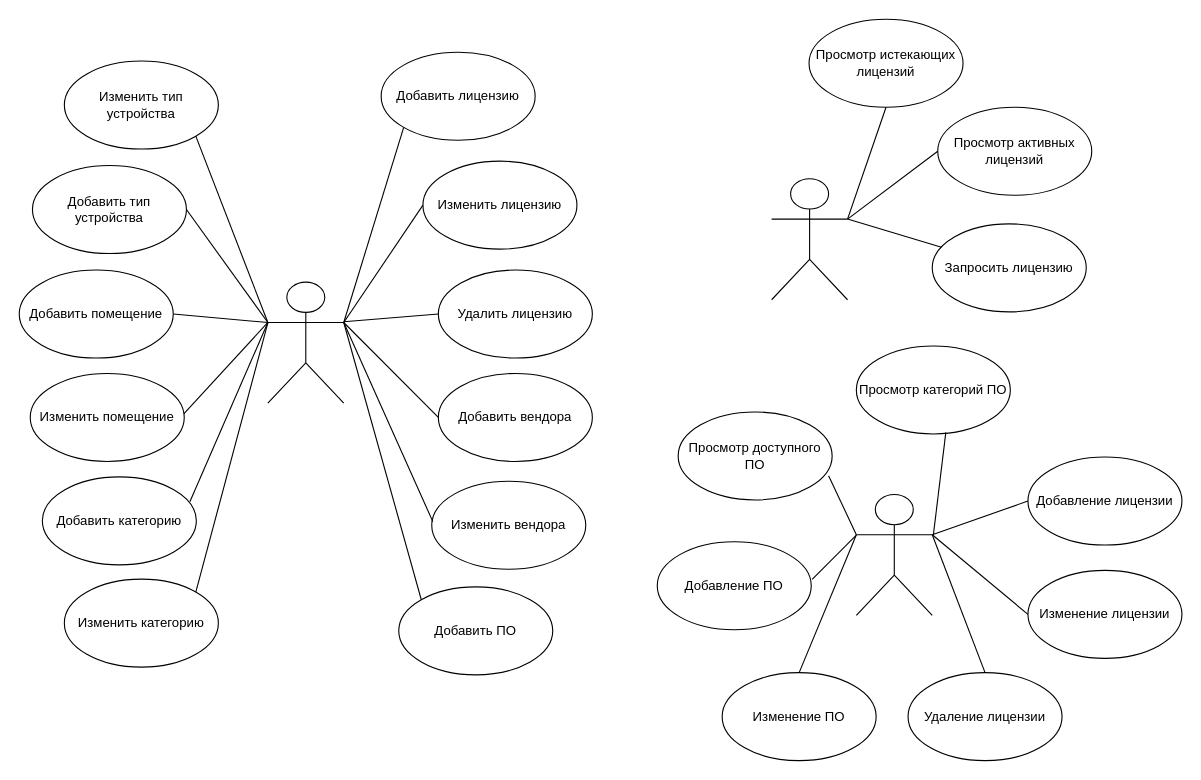
This 1201x780 diagram has some shape labels left out. The shapes that lost their labels are listed below. From the top down, each one's box as (x1, y1, x2, y2) in pixels, then its label:
(771, 178, 848, 300): Пользователь
(267, 281, 344, 403): Администратор
(855, 493, 932, 615): Вендор
